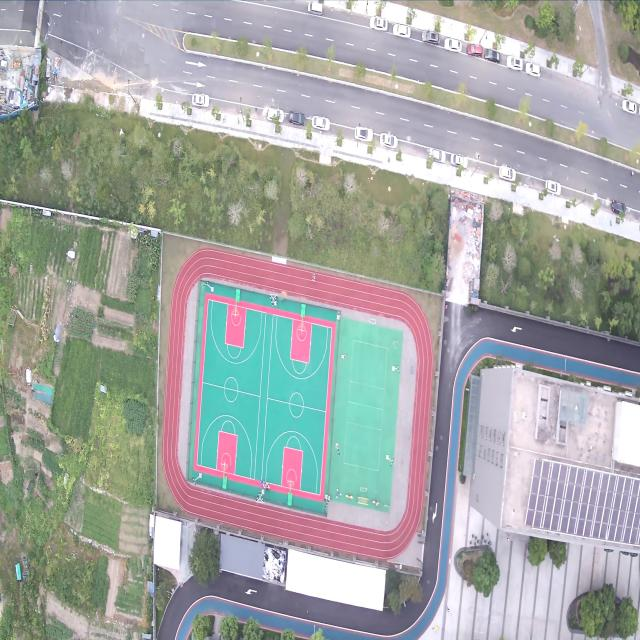UAV: (392, 341, 398, 348)
